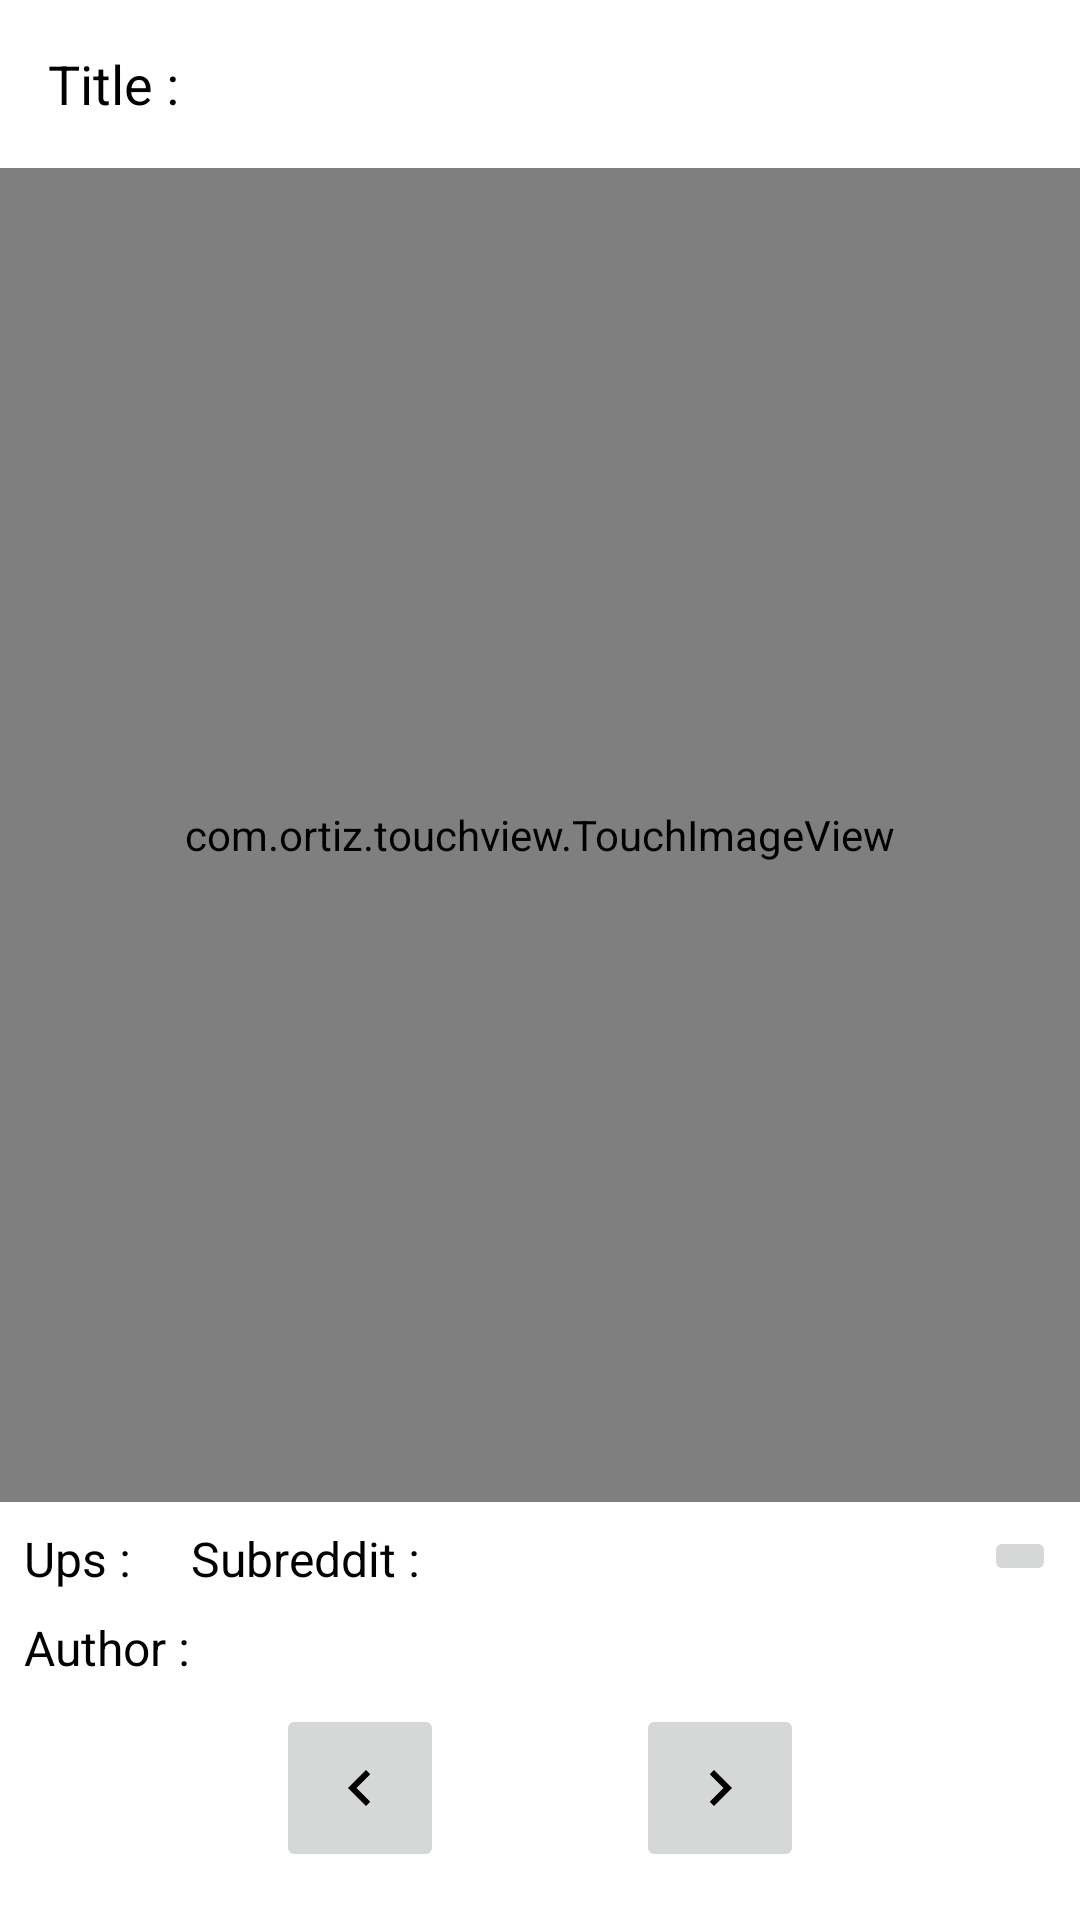

Where icons sit on this 1080px×1920px app screen, as (x1, y1, x2, y2):
navigate before: (288, 1722, 432, 1854)
navigate next: (648, 1722, 792, 1854)
